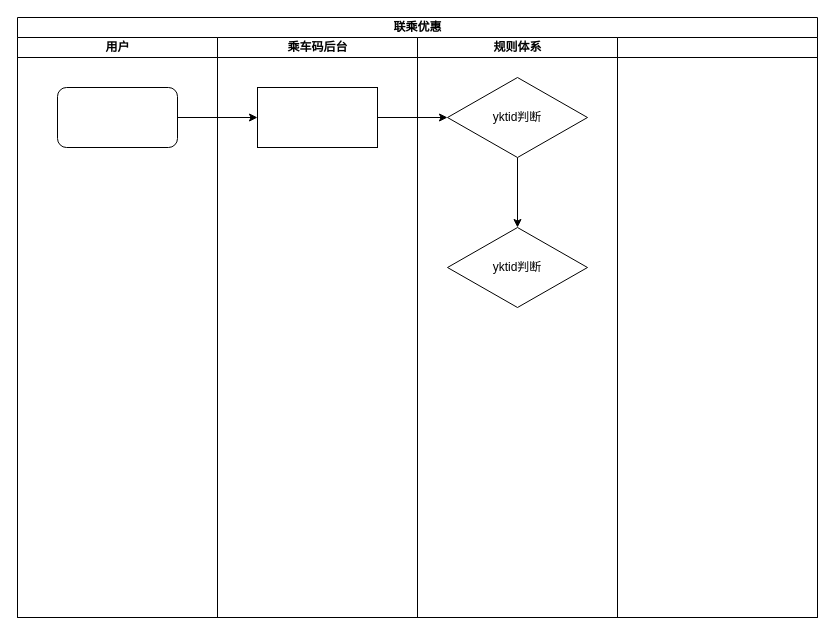
Image size: 835x635. Some labels were removed from this diagram. The box of each missing label's shape, as (x1, y1, x2, y2) in pixels:
乘公交/地铁: (56, 86, 178, 148)
扣费消息: (256, 86, 378, 148)
车票/营销系统: (616, 36, 818, 618)
